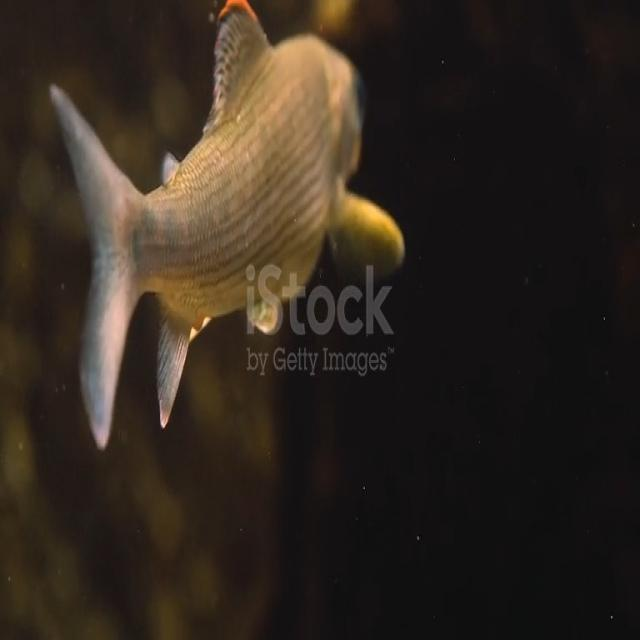fish: (48, 1, 406, 452)
